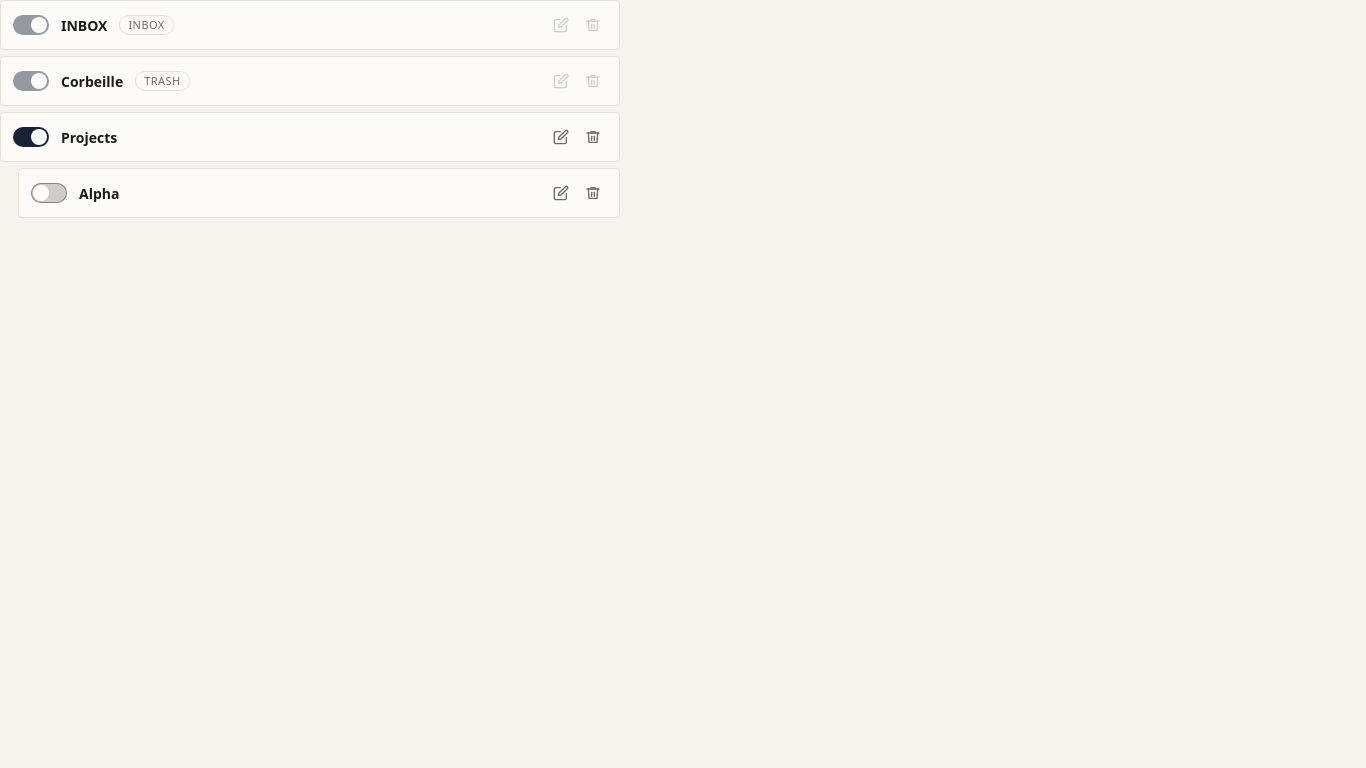
Test: deleting a folder › asks for confirmation before deleting
Click the button named "Delete Projects": (593, 137) [579,123,607,151]
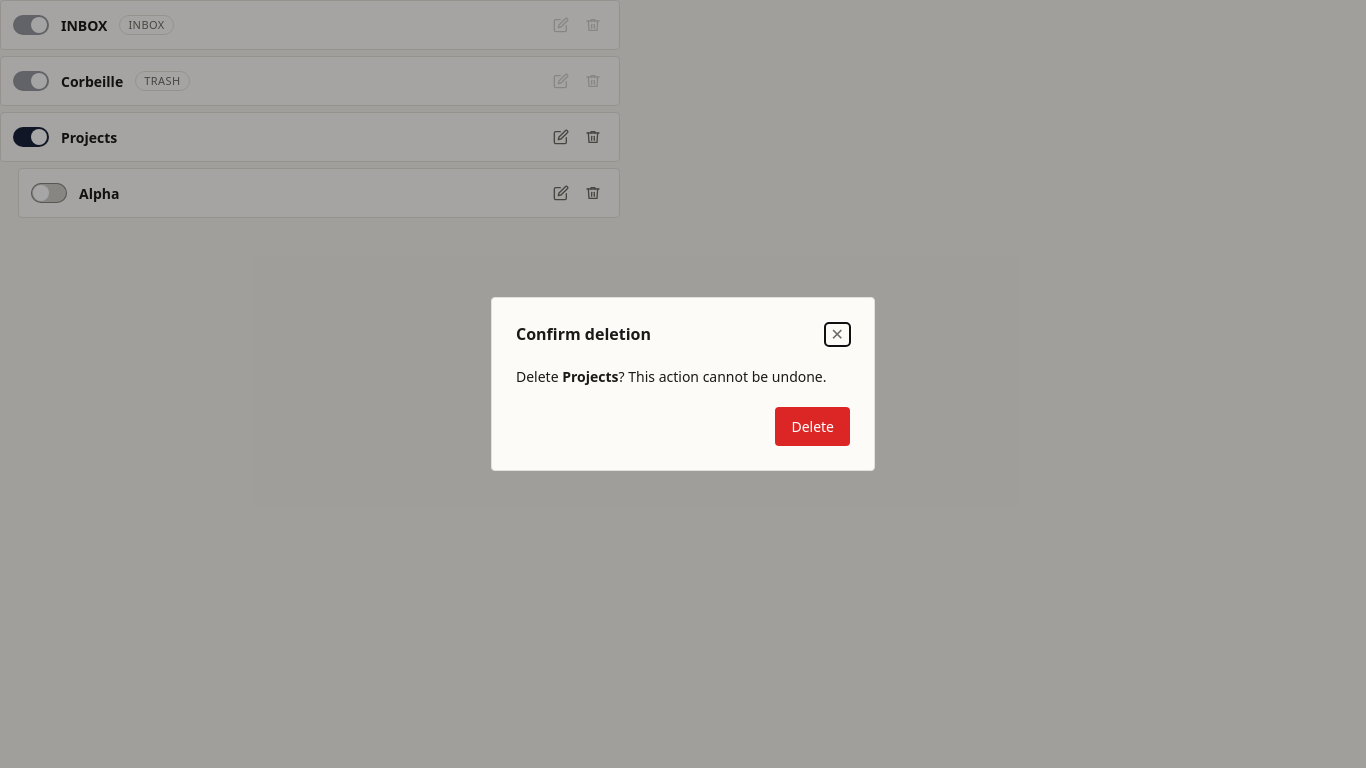
Expected: the button "Delete" is shown, [775,407,850,446]
